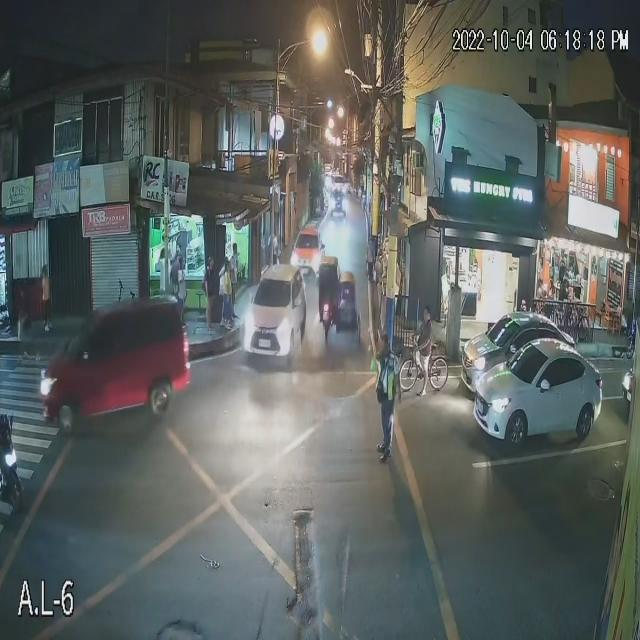motorcycle: (0, 421, 28, 501)
